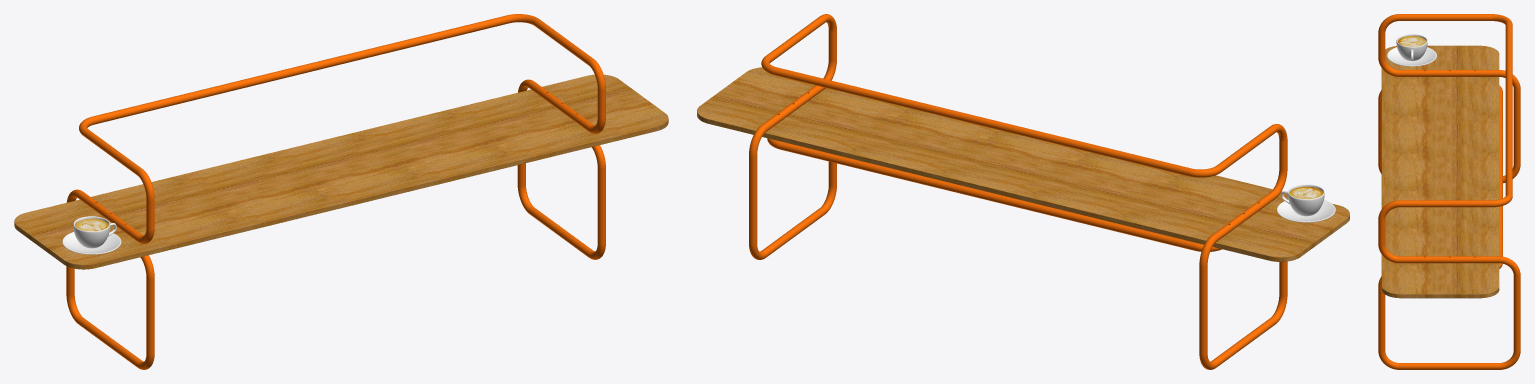
The model's file is bench-texturedv3.glb.
3 views of the same model, side by side, from view 1: azimuth 30°, elevation 25°; view 2: azimuth 150°, elevation 25°; view 3: azimuth 270°, elevation 25° (orthographic). The views are drawn at different scales.
Visible parts, largest first — view 1: Default(D2FF133B-3B5E-4C29-93F4-2B5826118A69), Default(A271B380-B4EA-4CB1-B994-C95541BAF5E3), Default(0D948ACC-1C31-4A8F-8CEB-5C3261446646), meshId0_name_0, Default(9CC83409-1D4E-47EF-A8C5-4C99EB8F1C23); view 2: Default(D2FF133B-3B5E-4C29-93F4-2B5826118A69), Default(A271B380-B4EA-4CB1-B994-C95541BAF5E3), Default(0D948ACC-1C31-4A8F-8CEB-5C3261446646), meshId0_name_0, Default(9CC83409-1D4E-47EF-A8C5-4C99EB8F1C23); view 3: Default(D2FF133B-3B5E-4C29-93F4-2B5826118A69), Default(A271B380-B4EA-4CB1-B994-C95541BAF5E3), meshId0_name_0, Default(9CC83409-1D4E-47EF-A8C5-4C99EB8F1C23), Default(0D948ACC-1C31-4A8F-8CEB-5C3261446646), meshId0_name_1.
Part boxes in pixels (box(x1,y1,x2,y2)): Default(D2FF133B-3B5E-4C29-93F4-2B5826118A69): box(15, 74, 667, 264); Default(A271B380-B4EA-4CB1-B994-C95541BAF5E3): box(66, 14, 605, 369); Default(0D948ACC-1C31-4A8F-8CEB-5C3261446646): box(14, 127, 656, 269); meshId0_name_0: box(62, 216, 121, 254); Default(9CC83409-1D4E-47EF-A8C5-4C99EB8F1C23): box(14, 74, 668, 264); Default(D2FF133B-3B5E-4C29-93F4-2B5826118A69): box(697, 67, 1349, 256); Default(A271B380-B4EA-4CB1-B994-C95541BAF5E3): box(749, 14, 1287, 369); Default(0D948ACC-1C31-4A8F-8CEB-5C3261446646): box(697, 112, 1349, 261); meshId0_name_0: box(1277, 184, 1335, 222); Default(9CC83409-1D4E-47EF-A8C5-4C99EB8F1C23): box(697, 67, 1349, 257); Default(D2FF133B-3B5E-4C29-93F4-2B5826118A69): box(1382, 45, 1498, 293); Default(A271B380-B4EA-4CB1-B994-C95541BAF5E3): box(1378, 14, 1520, 369); meshId0_name_0: box(1387, 34, 1436, 66); Default(9CC83409-1D4E-47EF-A8C5-4C99EB8F1C23): box(1381, 45, 1499, 294); Default(0D948ACC-1C31-4A8F-8CEB-5C3261446646): box(1401, 287, 1499, 297); meshId0_name_1: box(1397, 36, 1426, 46).
Size of the model in its own units: 2 by 0.634 by 0.4847.
10 materials, 7 textured.
